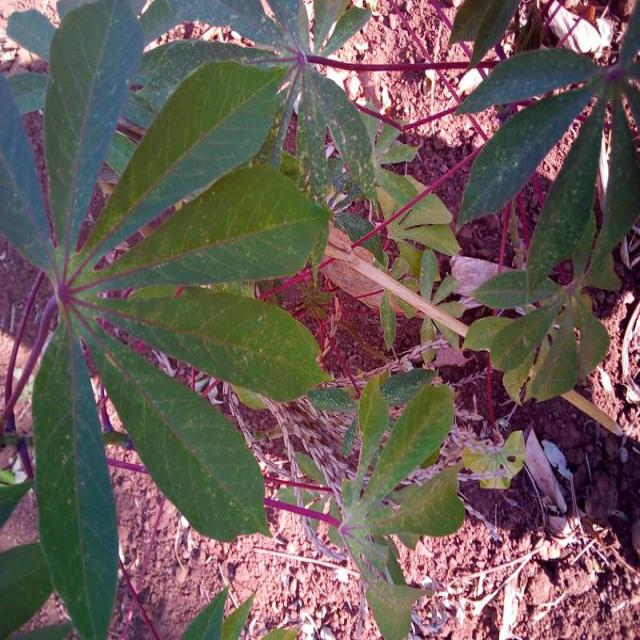cassava leaf: (1, 1, 333, 637), (74, 312, 272, 542), (76, 57, 288, 266), (30, 310, 120, 638), (98, 283, 332, 404)
